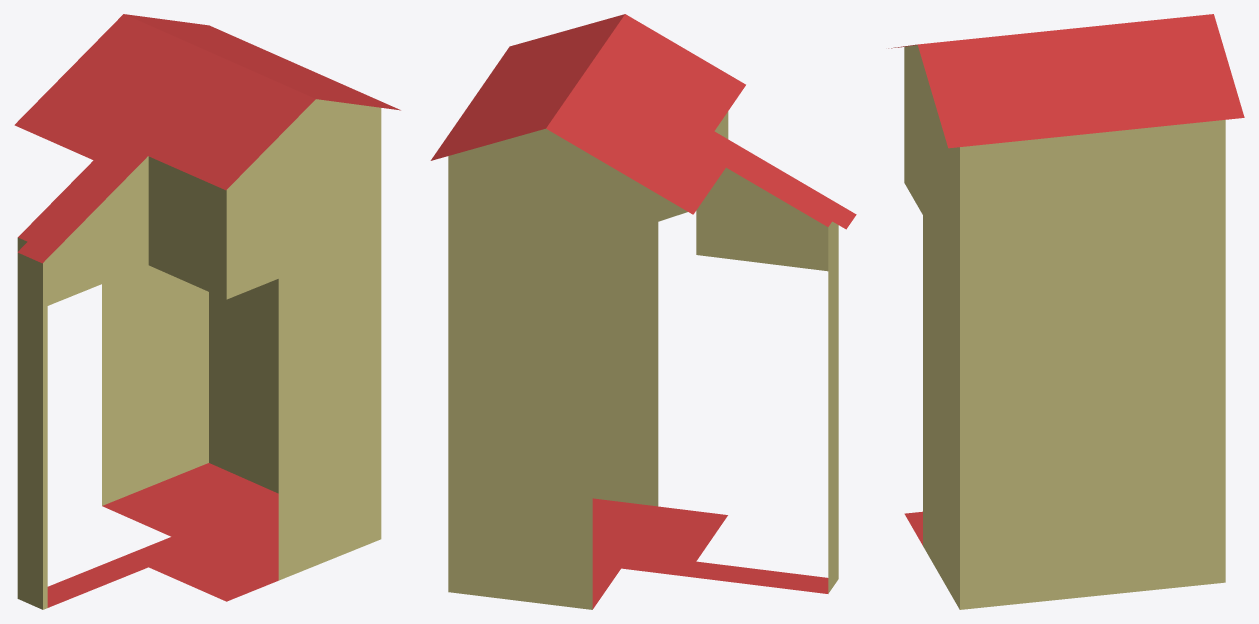
3 views of the same model, side by side, from view 1: azimuth 30°, elevation 25°; view 2: azimuth 150°, elevation 25°; view 3: azimuth 270°, elevation 25° (orthographic). The views are drawn at different scales.
Size of the model in its own units: 14.39 by 11.42 by 18.24.
